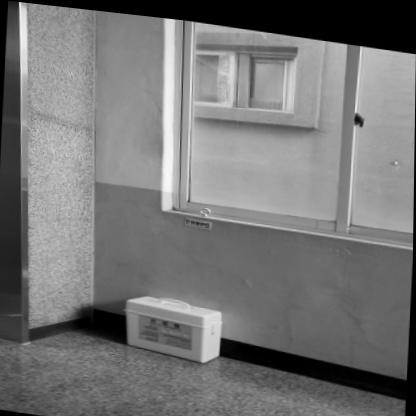DDL: (123, 288, 222, 360)
